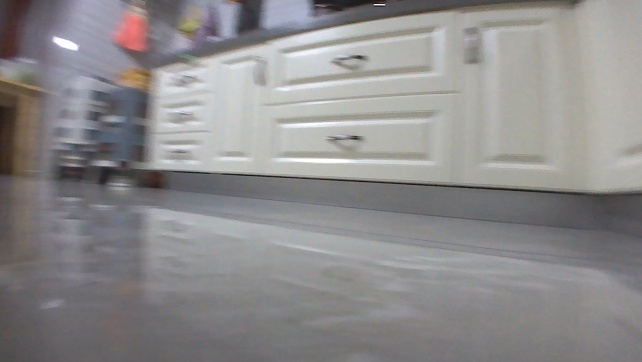cupboard: (126, 0, 641, 233)
